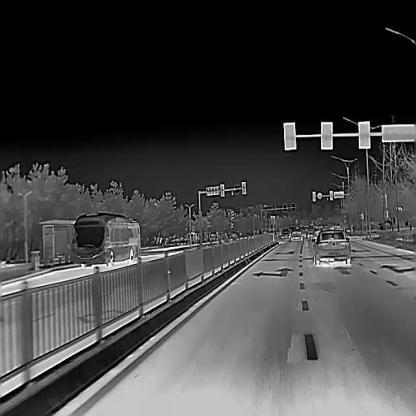car: (73, 210, 140, 264), (312, 229, 350, 264), (291, 227, 302, 239), (281, 227, 289, 238), (315, 226, 323, 237), (307, 227, 314, 237)
